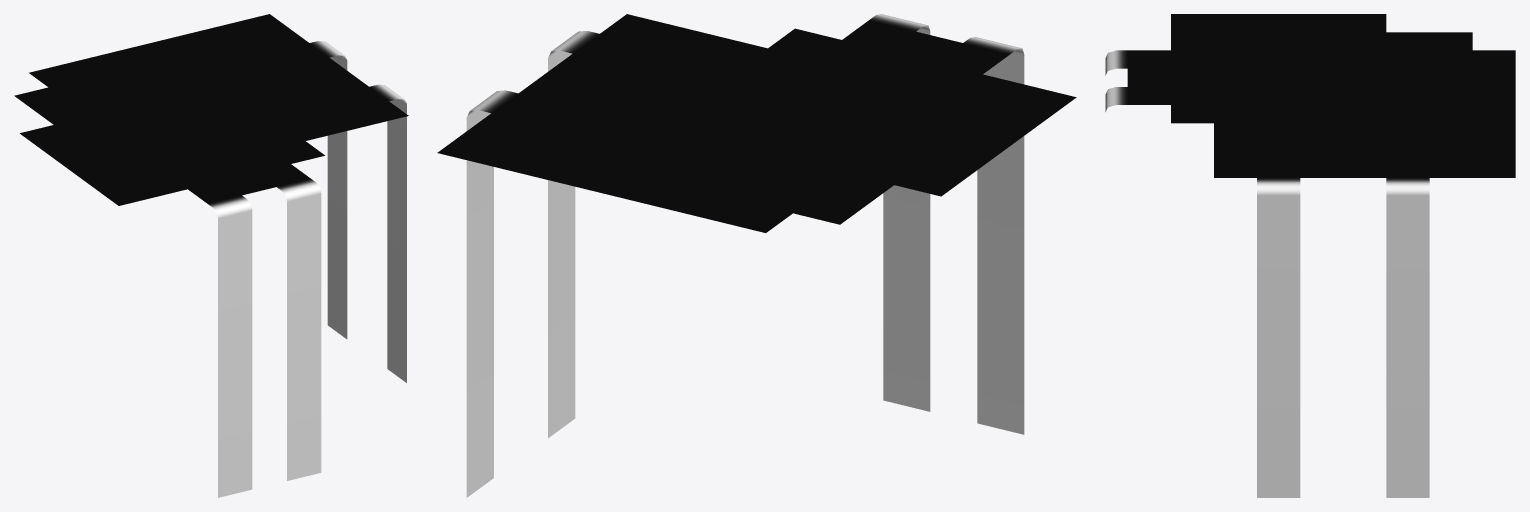
Rendered from PuzzleRoom2Water_MESH.fbx.
3 views of the same model, side by side, from view 1: azimuth 30°, elevation 25°; view 2: azimuth 150°, elevation 25°; view 3: azimuth 270°, elevation 25° (orthographic). The views are drawn at different scales.
Visible parts, largest first — view 1: pPlane5; view 2: pPlane5; view 3: pPlane5.
Boxes of the visible parts, box(x1,y1,x2,y2) form: pPlane5: box(14, 14, 408, 497); pPlane5: box(437, 14, 1076, 497); pPlane5: box(1105, 14, 1515, 497).
Bounding box in the file's own units: 9.52 × 7.95 × 9.52.
